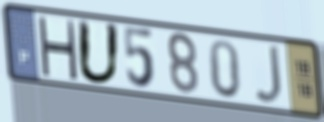0: (206, 38, 243, 100)
5: (122, 26, 161, 92)
8: (166, 30, 200, 97)
H: (35, 14, 79, 82)
J: (252, 44, 284, 106)
U: (75, 17, 122, 87)
